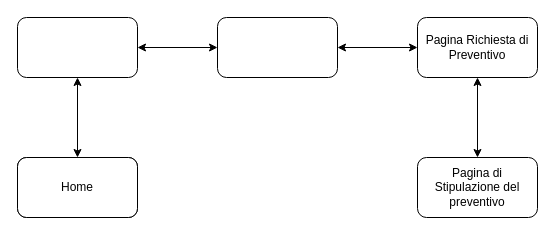
Image size: 555x235. Some labels were removed from this diagram. The shapes that lost their labels are listed below. From the top down, each one's centre as x and y in pixels, then its label:
At pixel 77 47: "Dashboard".
At pixel 277 47: "Pagina Lista ordini".
